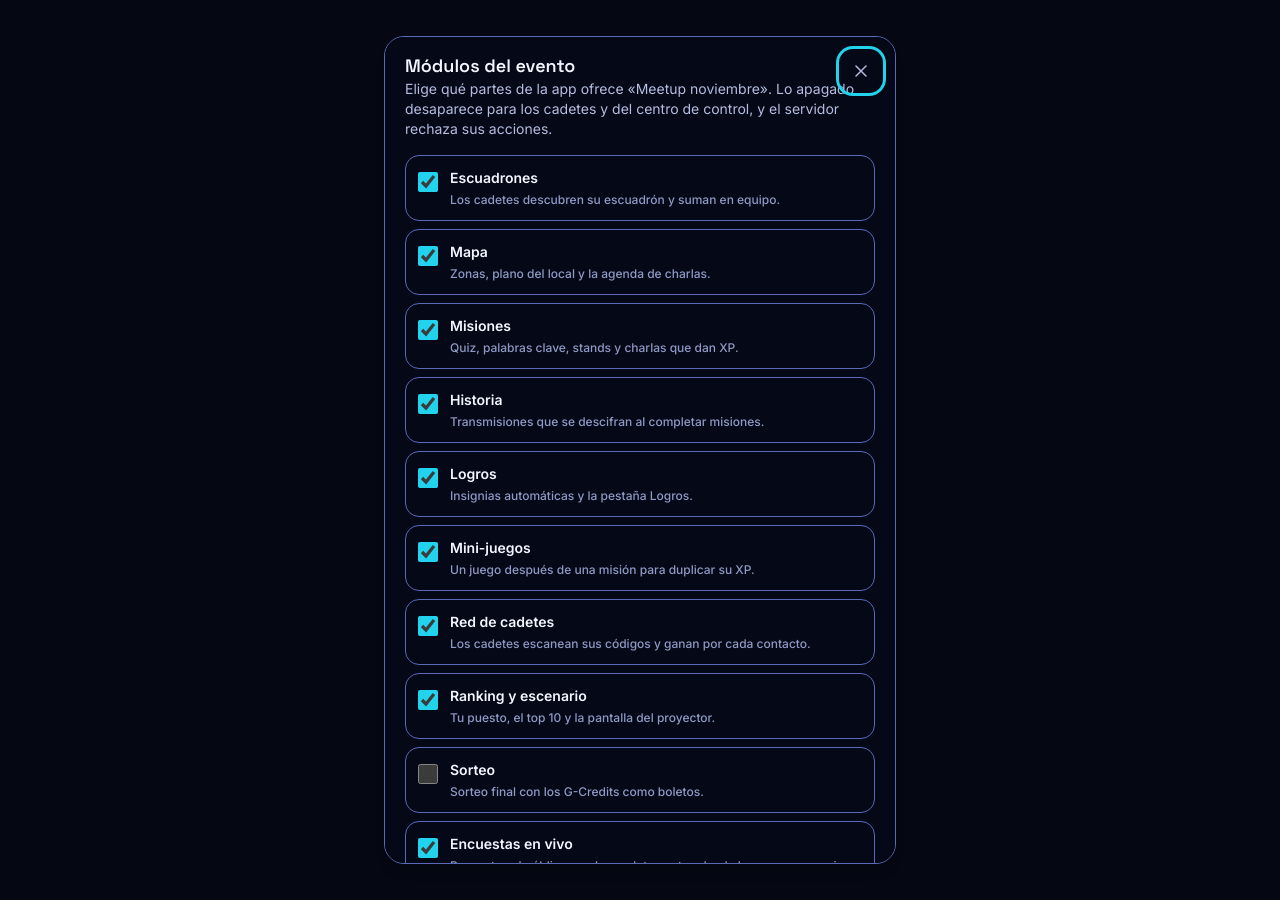
Test: ModulesDialog › shows what the edition has on, and switching Misiones off takes what needs it too, with the reason
Expected: the switch labelled "Sorteo" is not checked, left=418, top=764, right=438, bottom=784
What coordinates should you click on to do the following:
click the switch labelled "Misiones"
I would click on:
 (428, 330)
Its box is left=418, top=320, right=438, bottom=340.
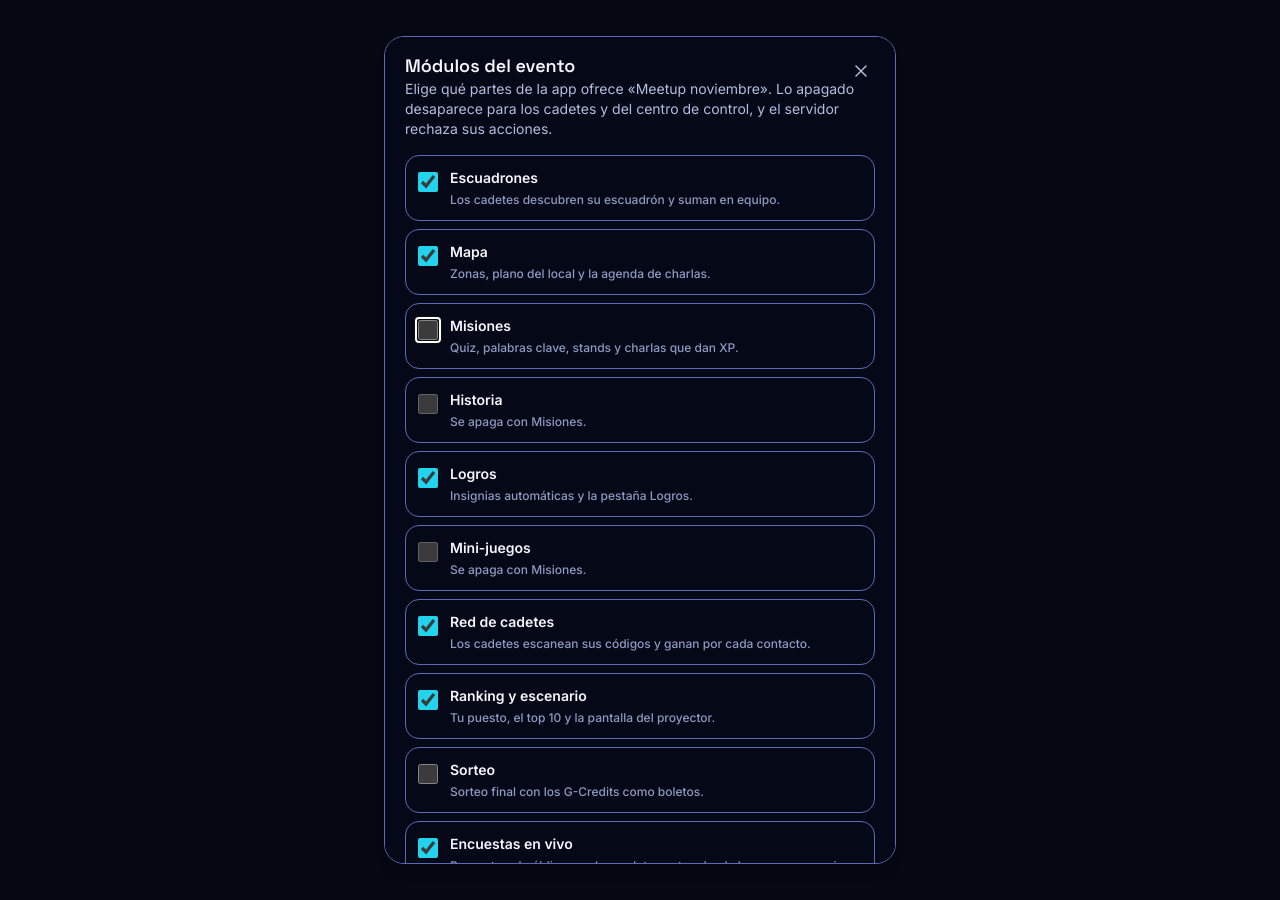
Now the switch labelled "Mini-juegos" is not checked, box left=418, top=542, right=438, bottom=562
Now the switch labelled "Mini-juegos" is disabled, box left=418, top=542, right=438, bottom=562
